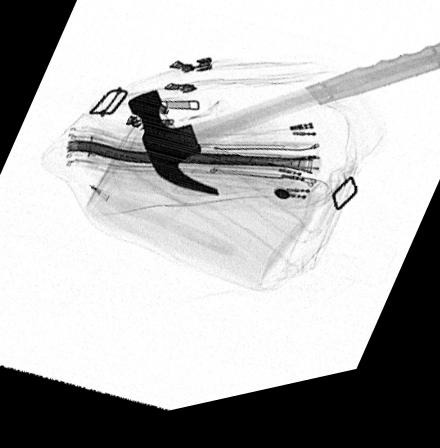Hammer: (127, 61, 440, 206)
